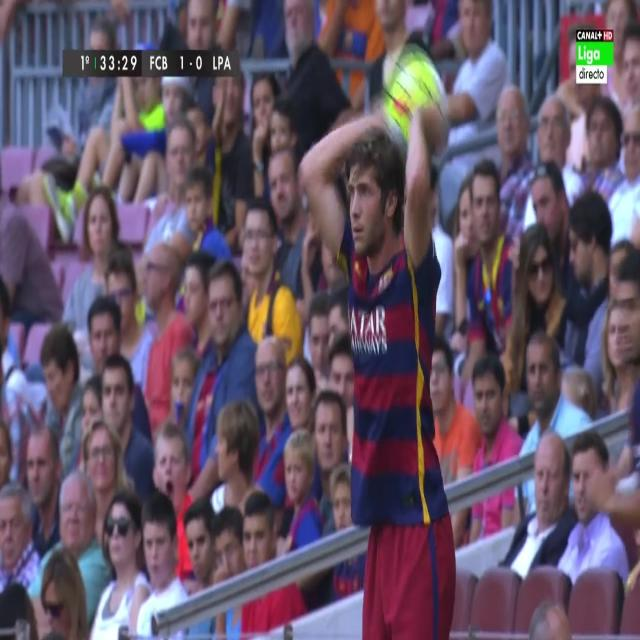Ball: (384, 45, 445, 155)
Player: (298, 104, 459, 638)
